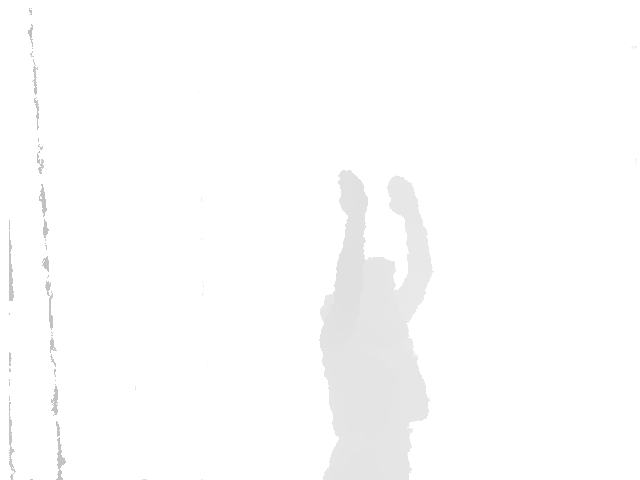hand: (334, 168, 369, 213), (386, 174, 419, 219)
head: (364, 255, 397, 308)
person: (322, 167, 433, 480)
